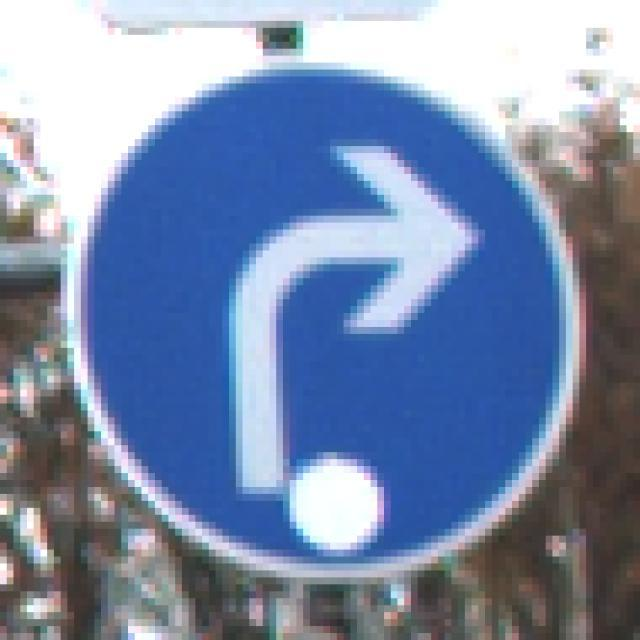compulsary turn right ahead: (60, 58, 589, 579)
